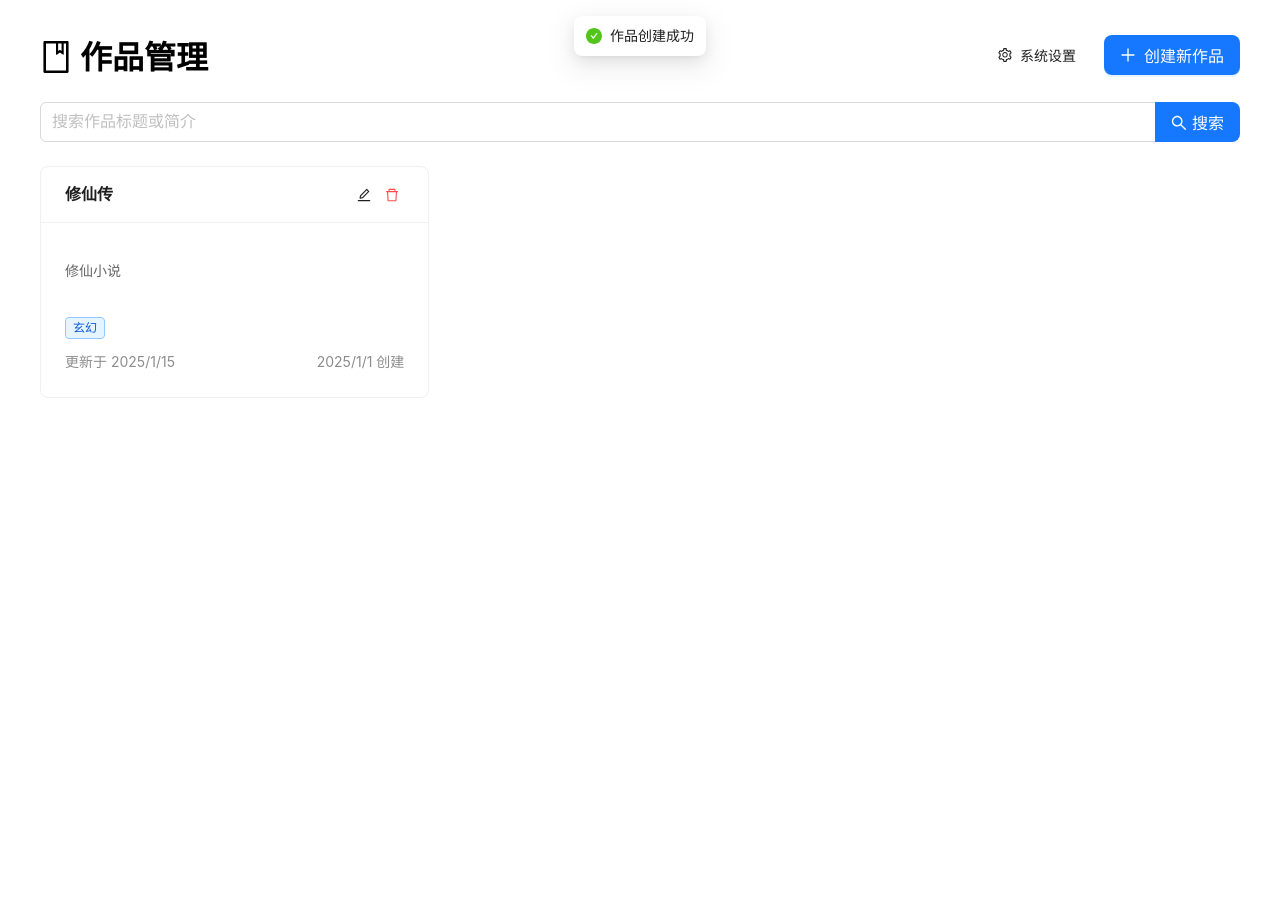
Test: DashboardPage › should open edit modal when edit button clicked
Expected: the text "修仙传" is shown, [65, 182, 113, 207]
Click the 4th button: point(364, 194) [352, 182, 376, 206]
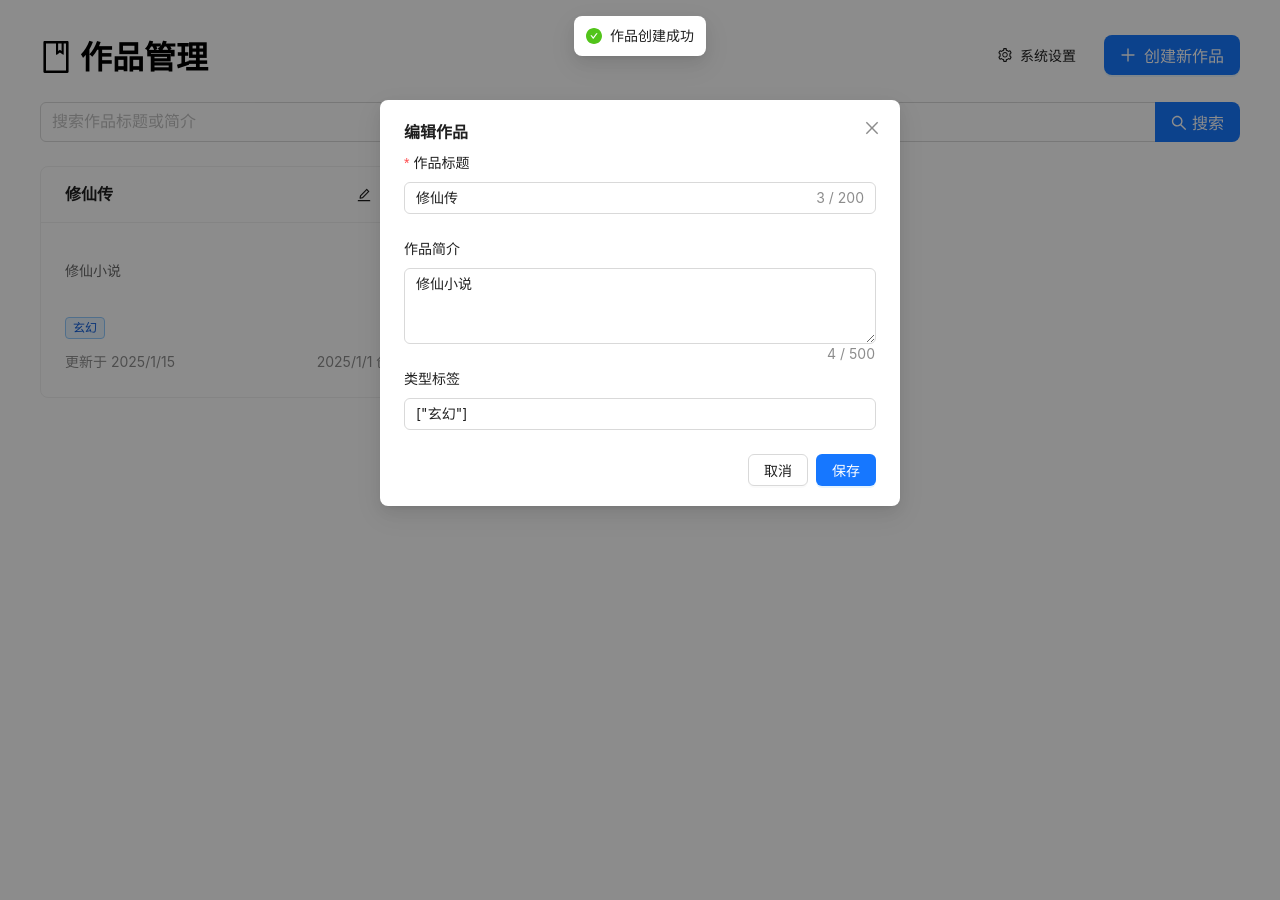
Now the text "编辑作品" is shown, box [404, 122, 468, 142]
